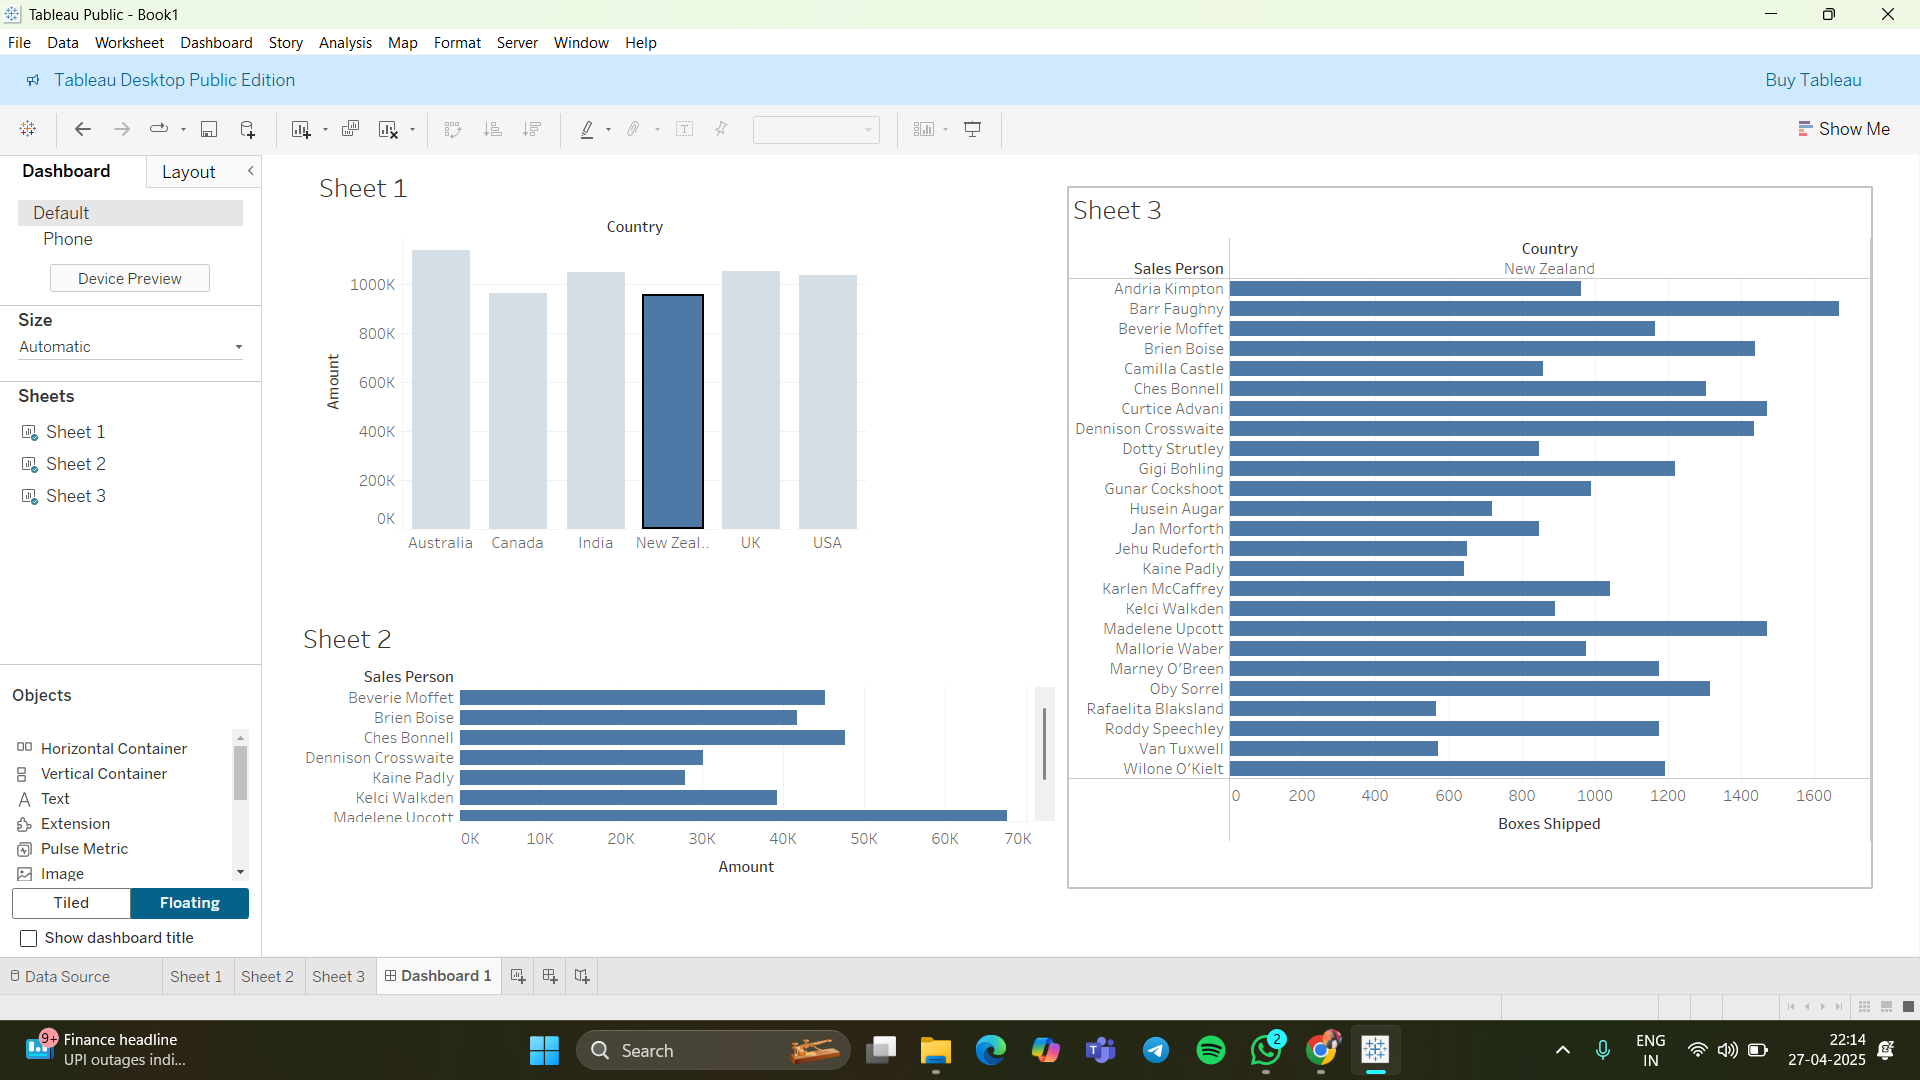

The page's visual inventory and layout, read from the dashboard file:
{"tool":"tableau","page":{"name":"Dashboard 1","canvas":[1000,1000],"units":"permille","ordinal":0},"visuals":[{"type":"worksheet","title":"Sheet 1","mark":"Automatic","rows":["Amount"],"cols":["Country"],"box":[32,13.7,333.1,503.1]},{"type":"worksheet","title":"Sheet 3","mark":"Automatic","rows":["Sales Person"],"cols":["Country","Boxes Shipped"],"box":[487,41.2,484,872.7]},{"type":"worksheet","title":"Sheet 2","mark":"Automatic","rows":["Sales Person"],"cols":["Amount"],"box":[22.3,576.8,456.2,333.3]}]}

Visuals, with their boxes on the dashboard's canvas, which has no fixed pixel size, in thousandths of its width and height (x1, y1, x2, y2). These are canvas units, not pixel positions in the 1920x1080 screenshot, which may show the page scaled, cropped or inside an application window:
"Sheet 1" worksheet: {"x1": 32, "y1": 14, "x2": 365, "y2": 517}
"Sheet 3" worksheet: {"x1": 487, "y1": 41, "x2": 971, "y2": 914}
"Sheet 2" worksheet: {"x1": 22, "y1": 577, "x2": 478, "y2": 910}
